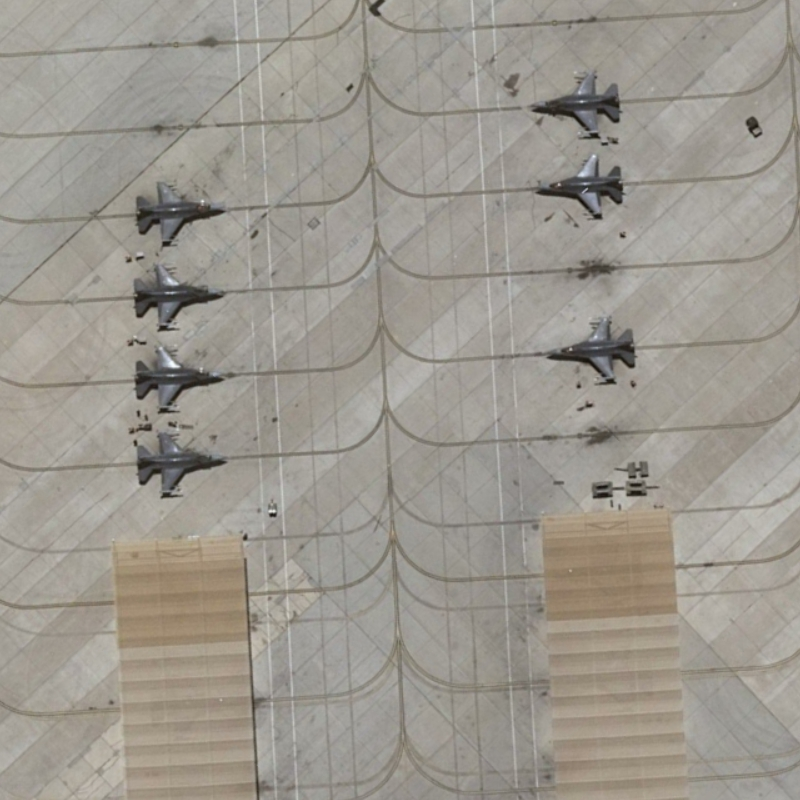A5: (126, 424, 236, 505), (519, 65, 631, 144), (536, 309, 641, 389), (127, 256, 228, 338), (128, 172, 229, 250), (128, 341, 228, 419), (530, 144, 628, 222)
